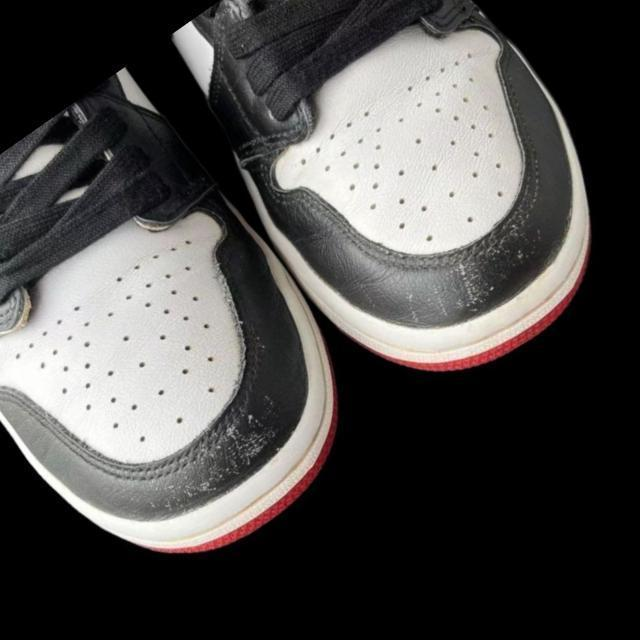nike original jordan 1: (131, 0, 640, 439), (0, 57, 399, 612)
